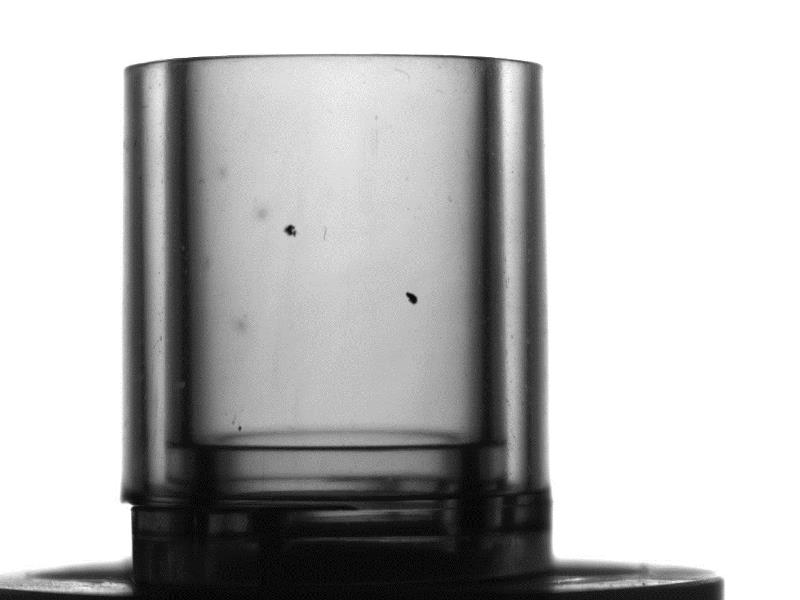blackdot: (404, 289, 423, 308), (284, 222, 299, 239), (236, 422, 247, 432)
